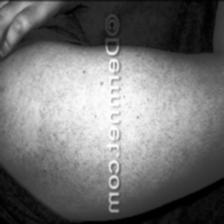Non-Cancerous Skin Condition: (0, 69, 102, 183), (137, 66, 217, 182)
